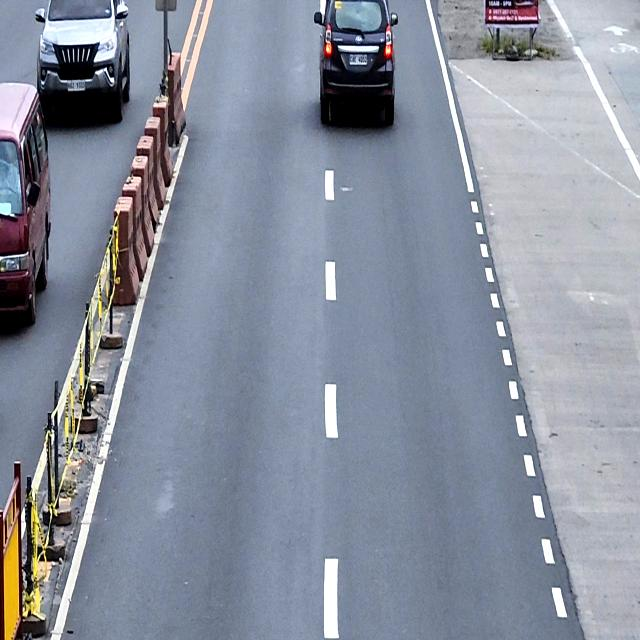Car: (0, 79, 53, 326), (34, 0, 131, 129), (311, 0, 400, 129)
License-Plate: (348, 52, 368, 68), (66, 81, 86, 93)
